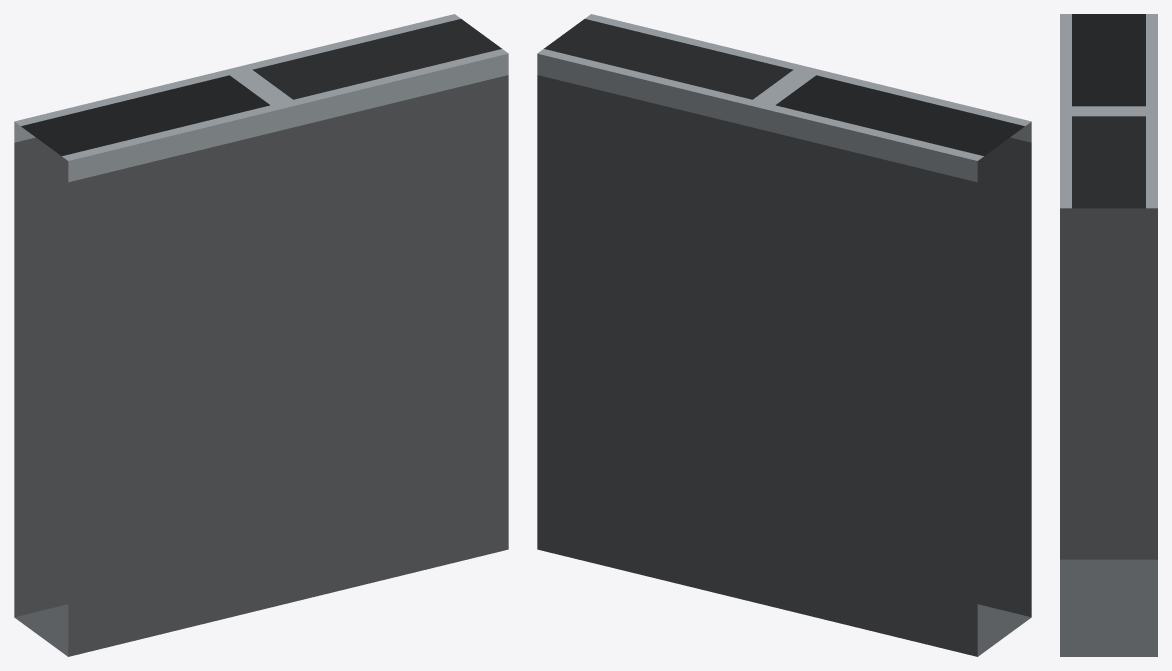
The model's file is Puertas.glb.
The picture shows the model from 3 angles, left to right: view 1: azimuth 30°, elevation 25°; view 2: azimuth 150°, elevation 25°; view 3: azimuth 270°, elevation 25°; orthographic projection. The views are drawn at different scales.
Parts seen in each view (by area): view 1: Cube.038, Cube.037; view 2: Cube.038, Cube.037; view 3: Cube.037, Cube.038.
Part boxes in pixels (<box>): Cube.038: <box>14,67,288,656</box>; Cube.037: <box>235,14,508,602</box>; Cube.038: <box>757,67,1031,656</box>; Cube.037: <box>537,14,810,602</box>; Cube.037: <box>1060,111,1157,656</box>; Cube.038: <box>1060,14,1157,559</box>.
Bounding box in the file's own units: 2 × 2.15 × 0.4255.
1 material, 1 textured.
